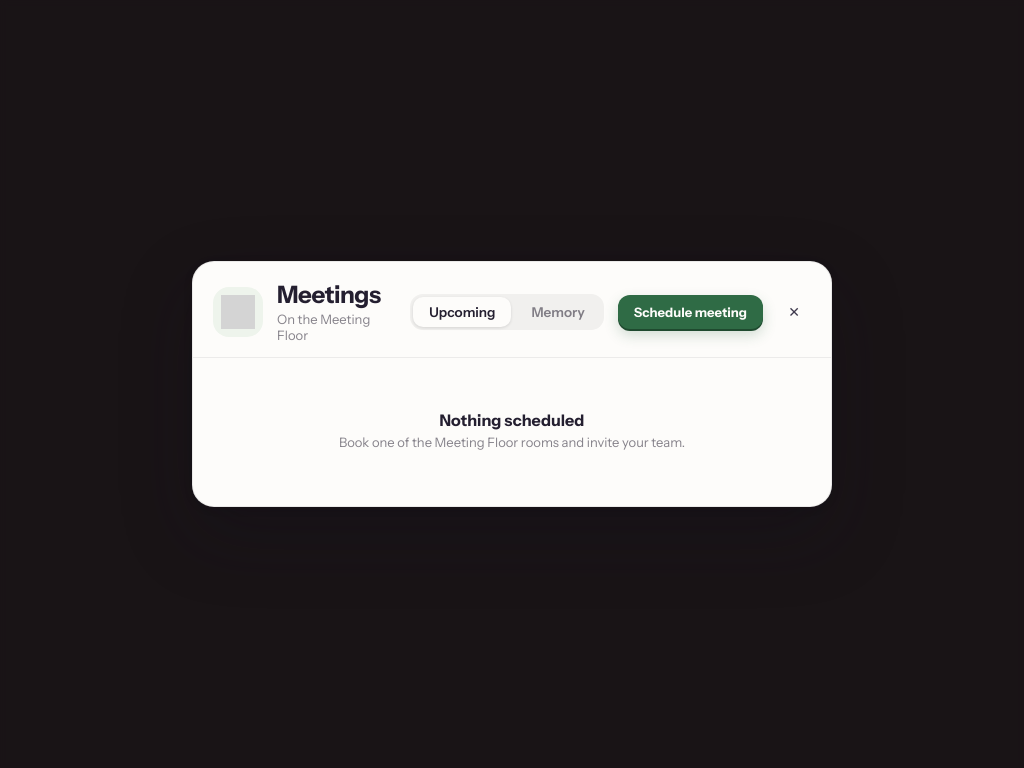
Scenario: MeetingMemory › searches on the server and says why a row matched
Click the tab "Memory" at (558, 312), box [516,296,601,326]
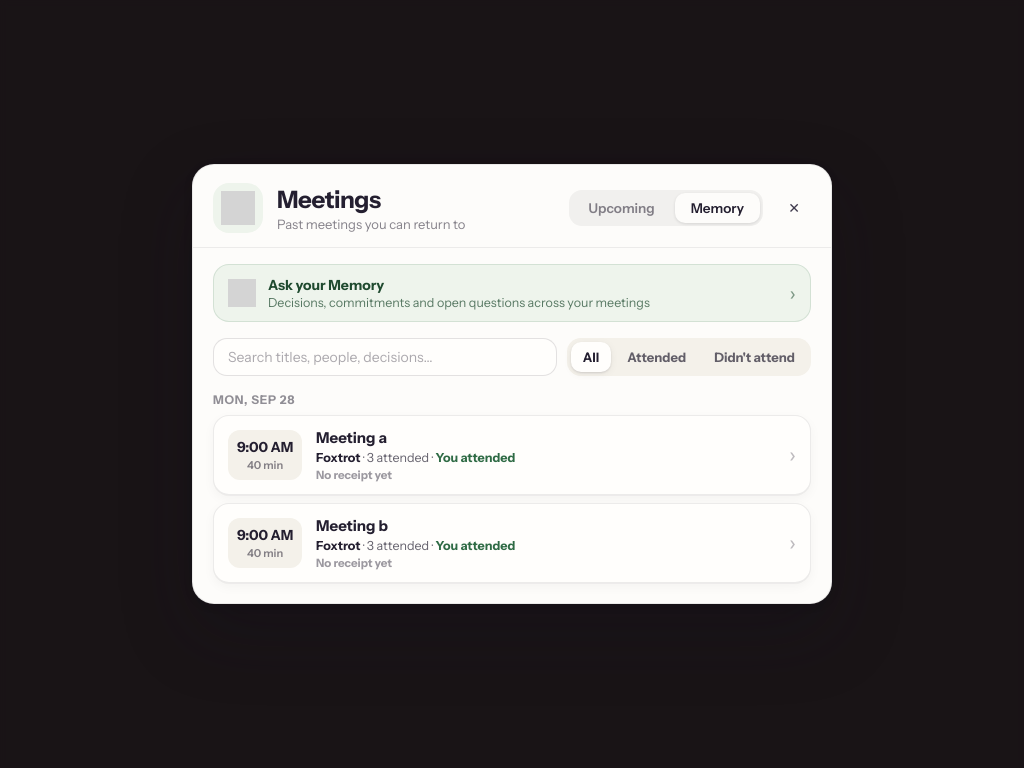
Expected: the number of buttons with test id "memory-row" is 2, [213,415,811,495]; [213,503,811,583]
Type "  starter " into the search field with test id "memory-search" at (385, 357), box [213,338,557,376]
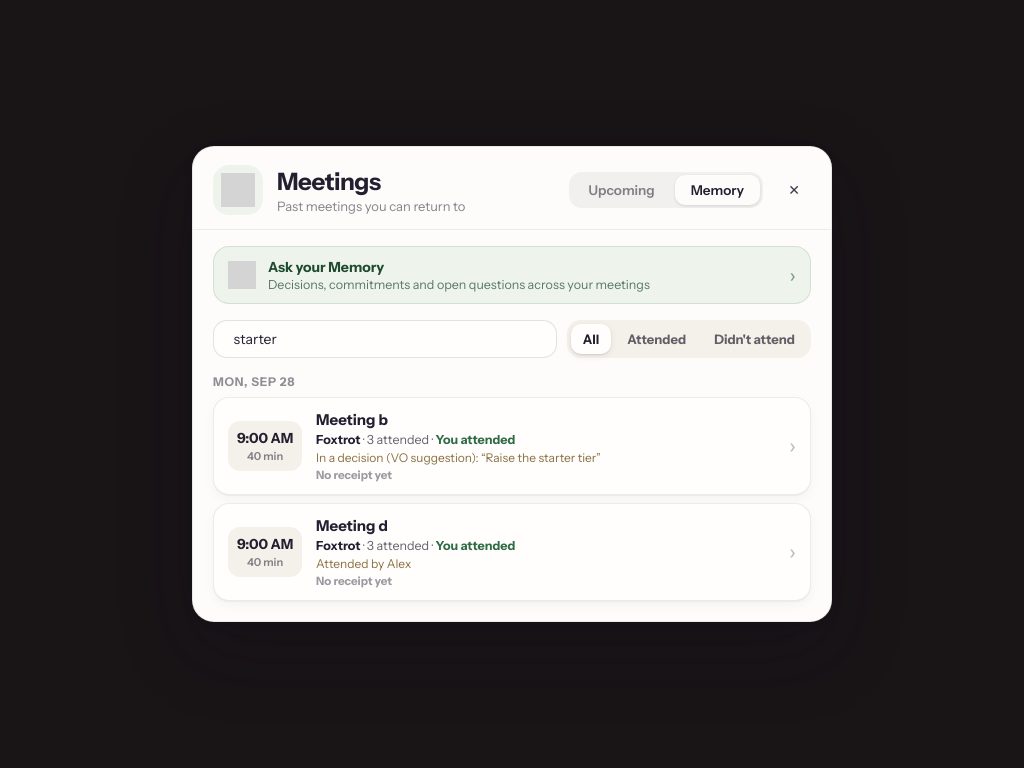
Expected: the number of elements with test id "memory-match" is 2, [316,450,601,465]; [316,556,411,571]
Expected: the text with test id "memory-match" reads "In a decision (VO suggestion): “Raise the starter tier”", [316,450,601,465]
Expected: the text with test id "memory-match" reads "Attended by Alex", [316,556,411,571]
Replace the text in the search field with test id "memory-search" with "nothing" at (385, 339), box [213,320,557,358]
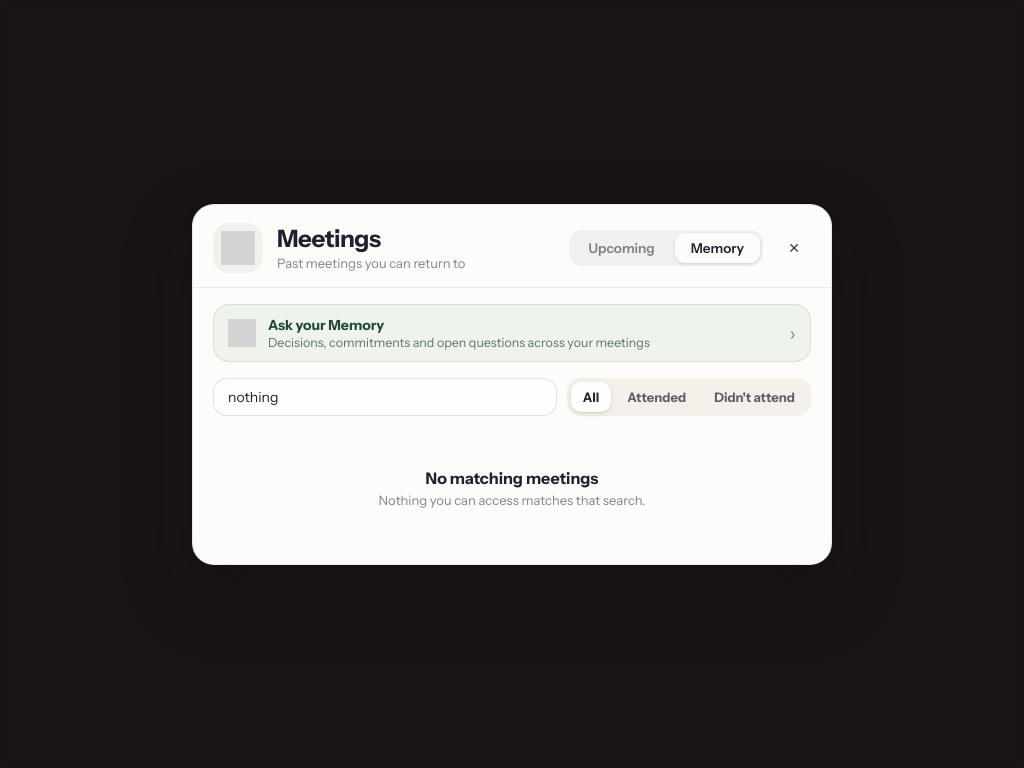
Expected: the text "No matching meetings" is shown, [426,468,598,488]
